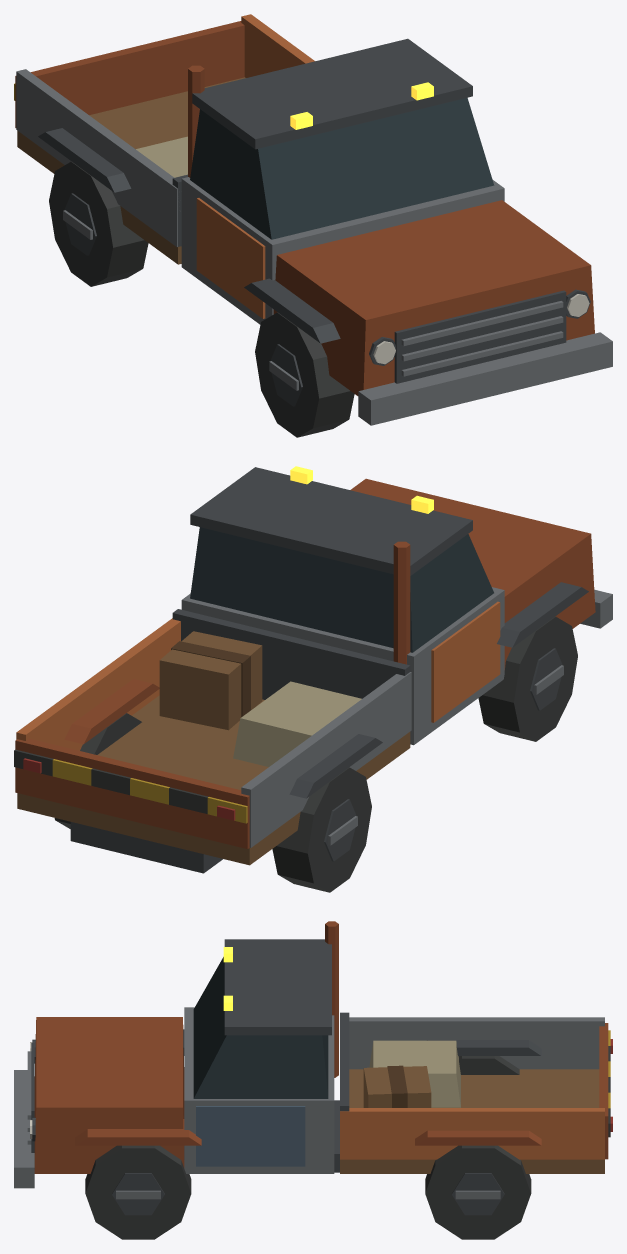
The model's file is vehicle_truck.glb.
The picture shows the model from 3 angles, top to bottom: view 1: azimuth 30°, elevation 25°; view 2: azimuth 150°, elevation 25°; view 3: azimuth 270°, elevation 25°; orthographic projection. The views are drawn at different scales.
Parts seen in each view (by area): view 1: body, wheel_fr, wheel_rr; view 2: body, wheel_fr, wheel_rr, wheel_rl; view 3: body, wheel_fl, wheel_rl, wheel_rr.
Part boxes in pixels (x1,y1,x2,y2): body: [14, 14, 612, 425]; wheel_fr: [255, 312, 354, 437]; wheel_rr: [49, 161, 148, 286]; body: [14, 466, 612, 873]; wheel_fr: [478, 616, 577, 741]; wheel_rr: [272, 767, 371, 892]; wheel_rl: [54, 713, 141, 828]; body: [14, 921, 612, 1188]; wheel_fl: [85, 1145, 191, 1239]; wheel_rl: [425, 1145, 531, 1239]; wheel_rr: [458, 1056, 519, 1074].
Size of the model in its own units: 2.22 by 2.13 by 5.2.
